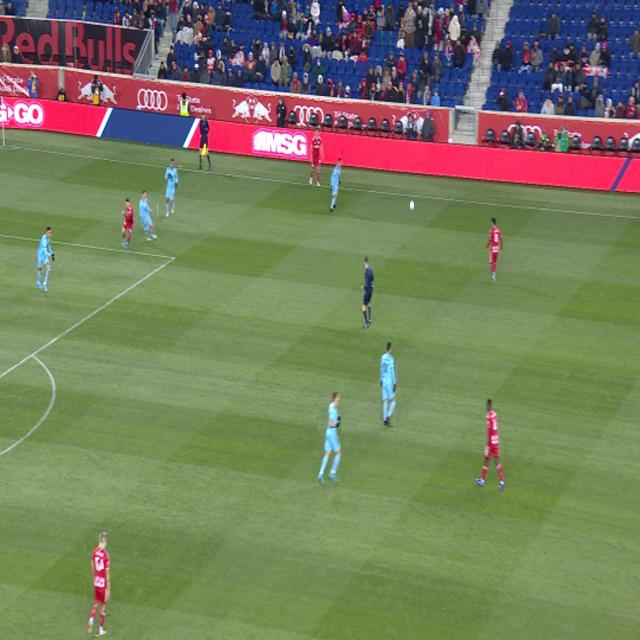football: (410, 200, 414, 210)
player: (476, 399, 505, 489), (87, 532, 111, 635), (318, 393, 341, 484), (36, 226, 55, 292), (381, 343, 396, 426), (486, 218, 503, 281), (309, 128, 324, 187), (140, 190, 157, 242), (165, 159, 178, 217), (122, 198, 134, 248), (330, 158, 341, 212)
referee: (362, 257, 374, 328)
